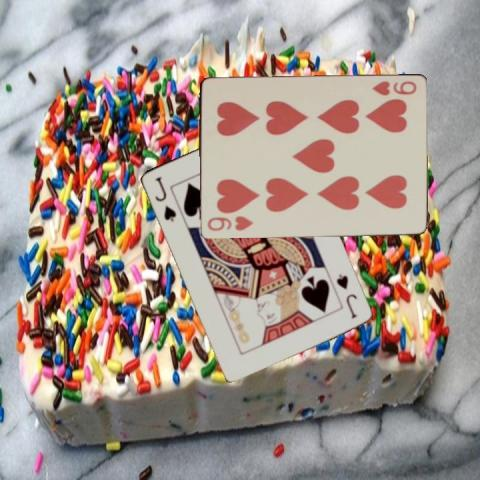9h: (204, 214, 255, 234), (369, 78, 417, 97)
Js: (332, 271, 359, 320), (152, 174, 178, 223)
